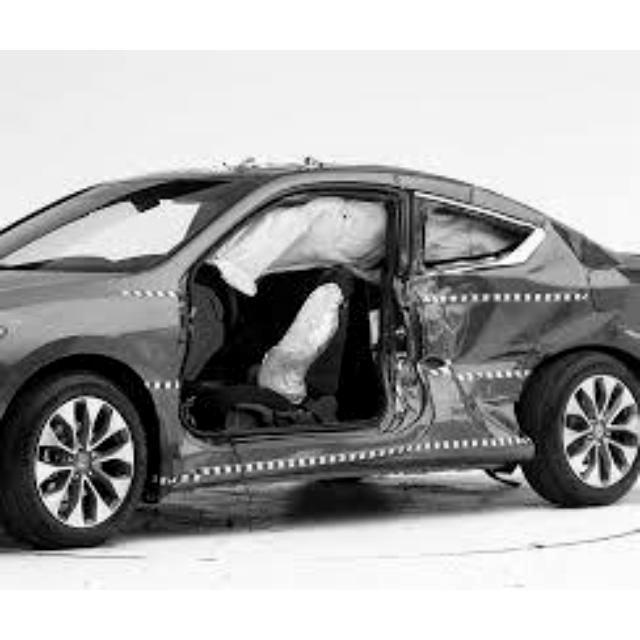Runningboard-Damage: (181, 433, 553, 467)
doorouter-dent: (200, 163, 404, 420), (418, 192, 551, 425)
